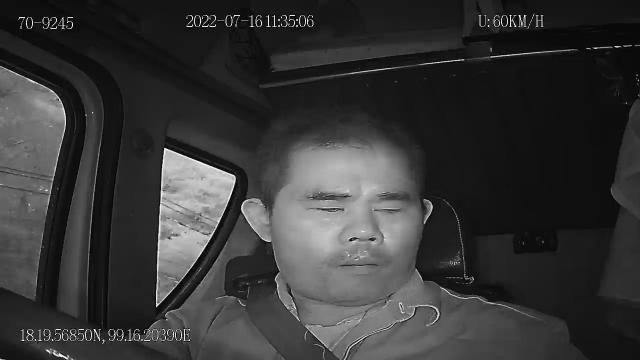SafeDriving: (300, 195, 354, 217), (368, 196, 412, 218)
Seatbelt: (243, 276, 355, 360)
